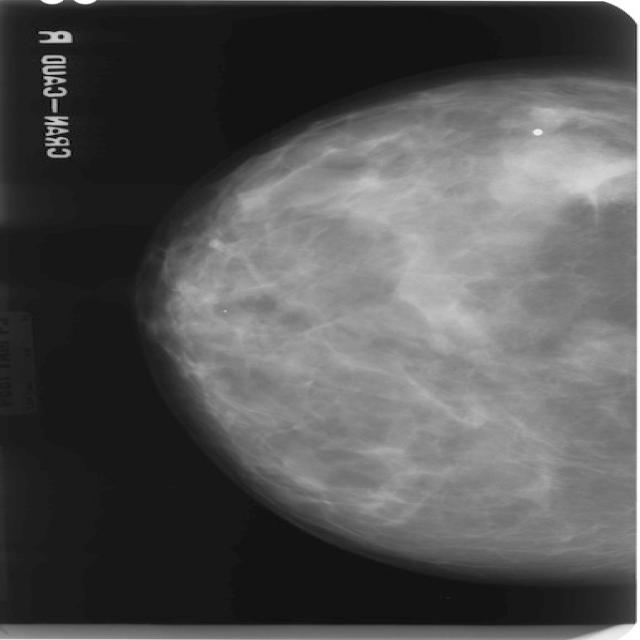tumour: (550, 156, 634, 196)
